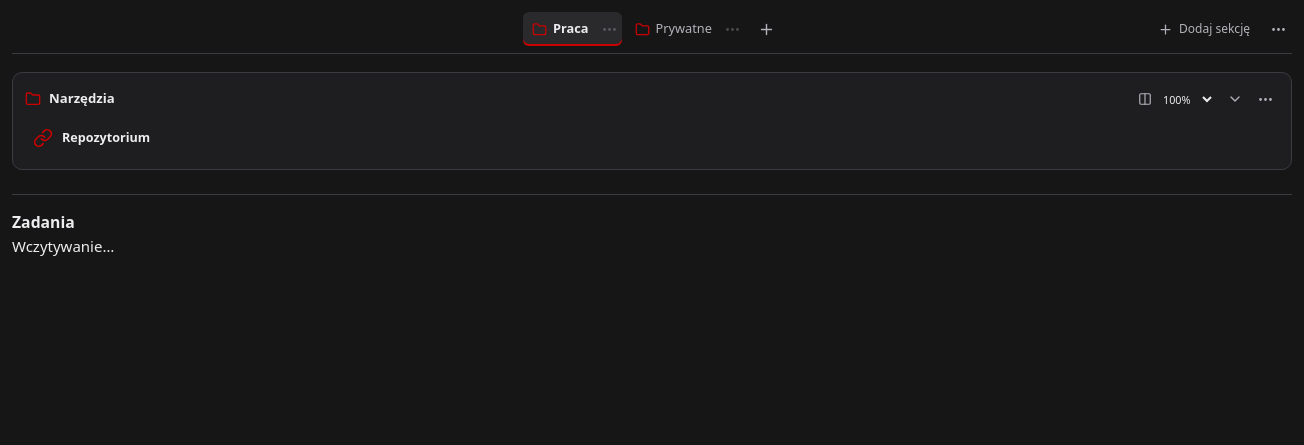
kompaktowy dashboard › nie wymaga trybu edycji i zachowuje moduł zadań po zmianie zakładki
Check: the heading "Zadania" is shown, box x1=12 y1=211 x2=75 y2=233
Click the button "Prywatne": (673,29) x1=626 y1=12 x2=721 y2=46
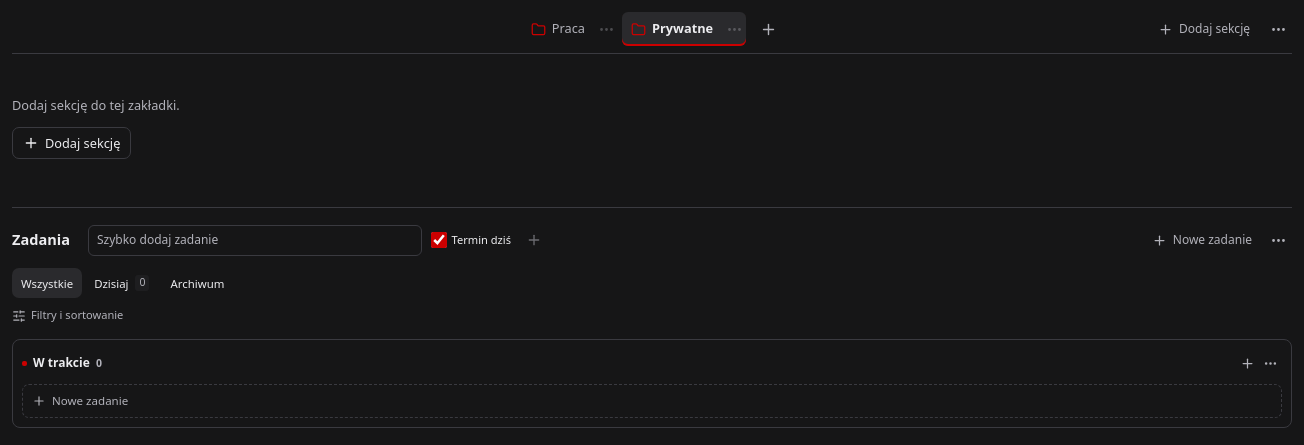
Check: the heading "Zadania" is shown, box x1=12 y1=229 x2=70 y2=251
Check: the link "Repozytorium" is gone
